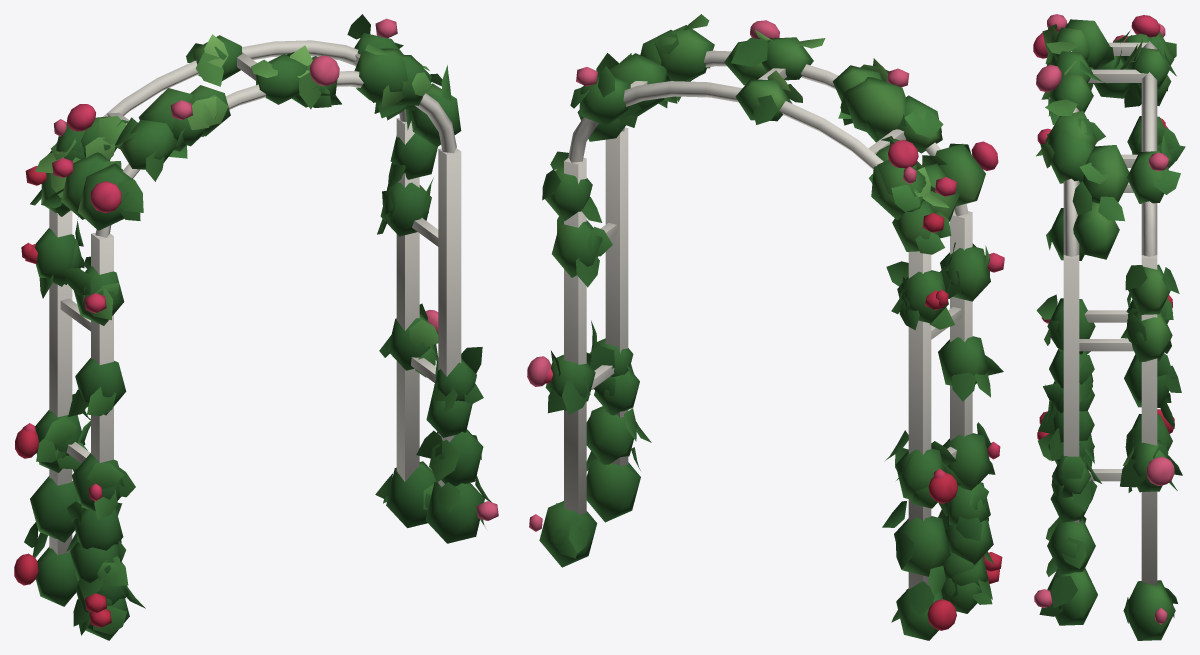
Rendered from furn_od_arch.glb.
3 views of the same model, side by side, from view 1: azimuth 30°, elevation 25°; view 2: azimuth 150°, elevation 25°; view 3: azimuth 270°, elevation 25° (orthographic). The views are drawn at different scales.
Parts seen in each view (by area): view 1: furn_od_arch_main; view 2: furn_od_arch_main; view 3: furn_od_arch_main.
Boxes of the visible parts, x1,y1,x2,y2 form: furn_od_arch_main: (14, 14, 498, 640); furn_od_arch_main: (527, 14, 1004, 640); furn_od_arch_main: (1033, 14, 1185, 640).
Bounding box in the file's own units: 1.78 × 2.16 × 0.586.
